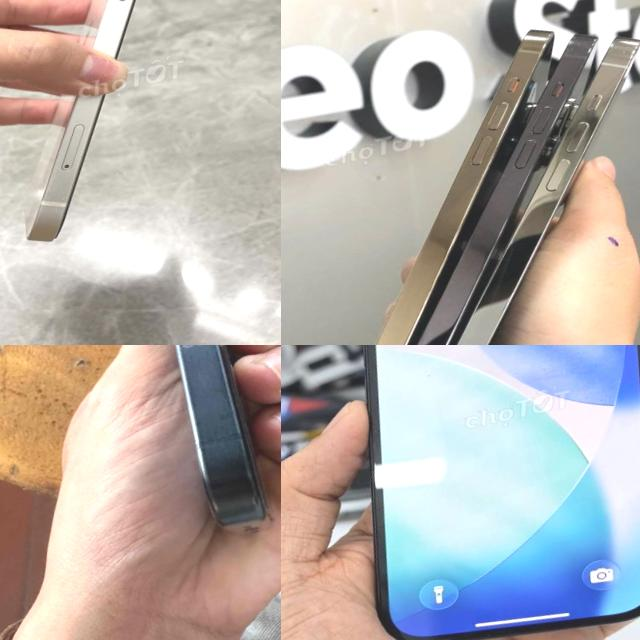gen_12_13: (0, 0, 257, 252)
gen_14: (375, 30, 553, 345)
gen_15: (91, 345, 278, 544)
gen_16: (364, 345, 640, 640)
scratch: (180, 352, 242, 434)
